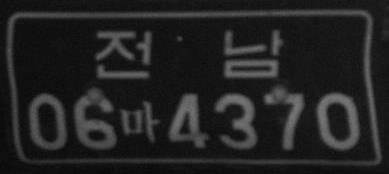0: (315, 90, 362, 152), (26, 92, 68, 150)
3: (214, 91, 258, 151)
4: (166, 91, 210, 149)
6: (73, 91, 118, 150)
7: (262, 91, 306, 152)
마: (120, 100, 159, 144)
전남_D: (95, 27, 285, 83)
